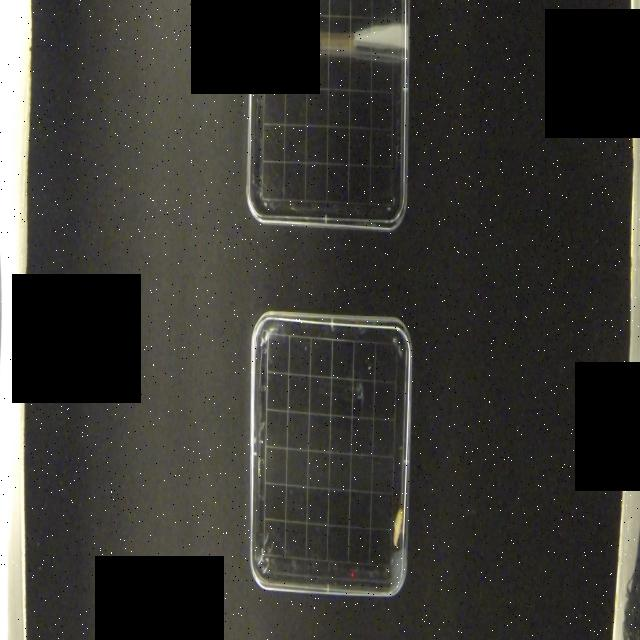larva: (391, 501, 406, 551)
